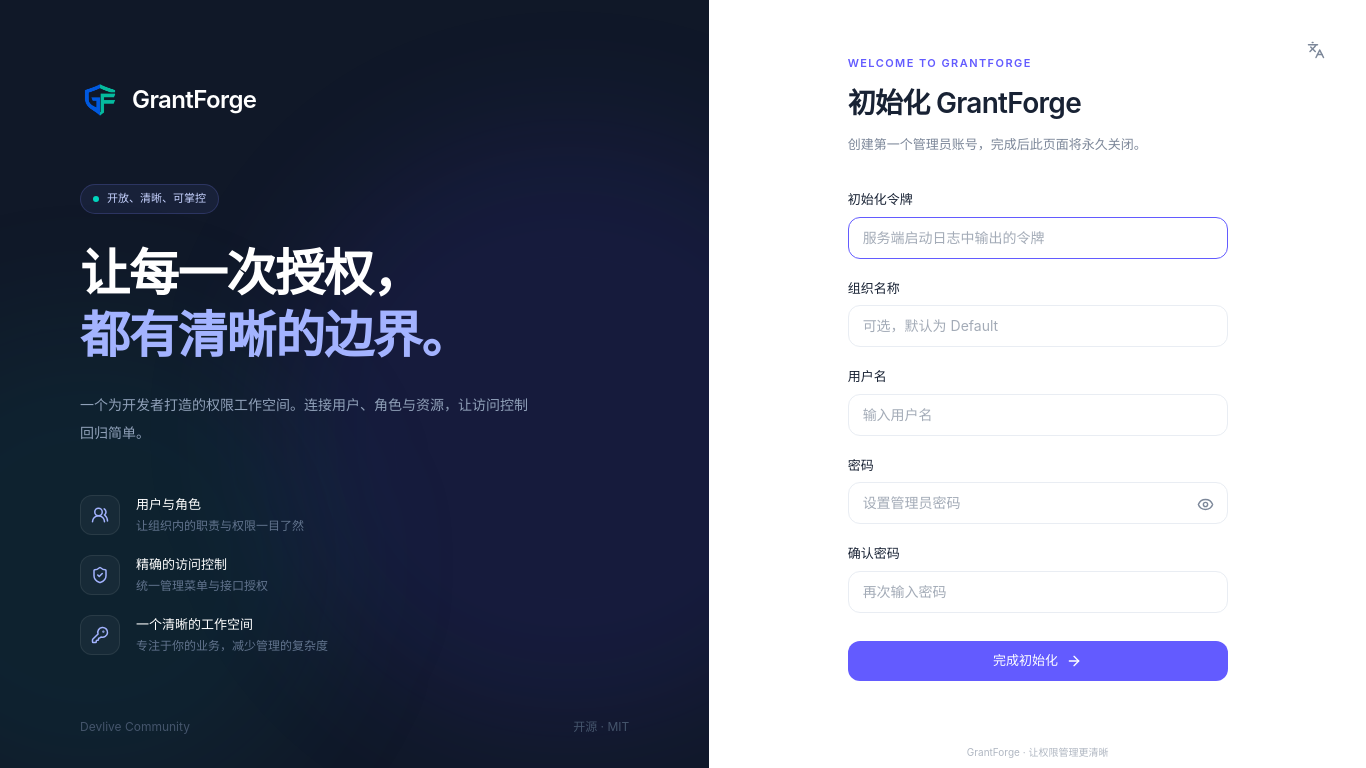
Test case: auth view › shows why the server rejected setup
Type "wrong" into the field labelled "初始化令牌" at (1038, 238), box [848,216,1228,258]
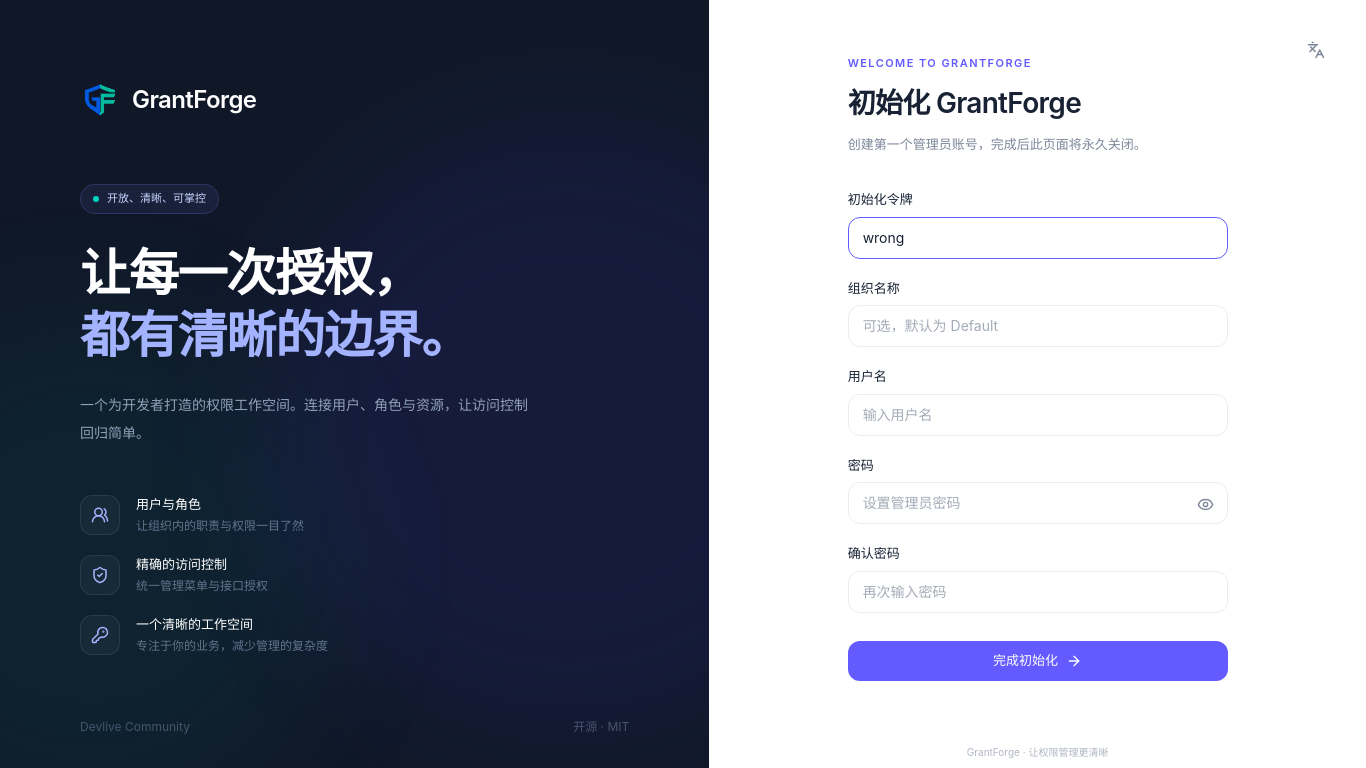
Type "Acme" into the field labelled "组织名称" at (1038, 326), box [848,305,1228,347]
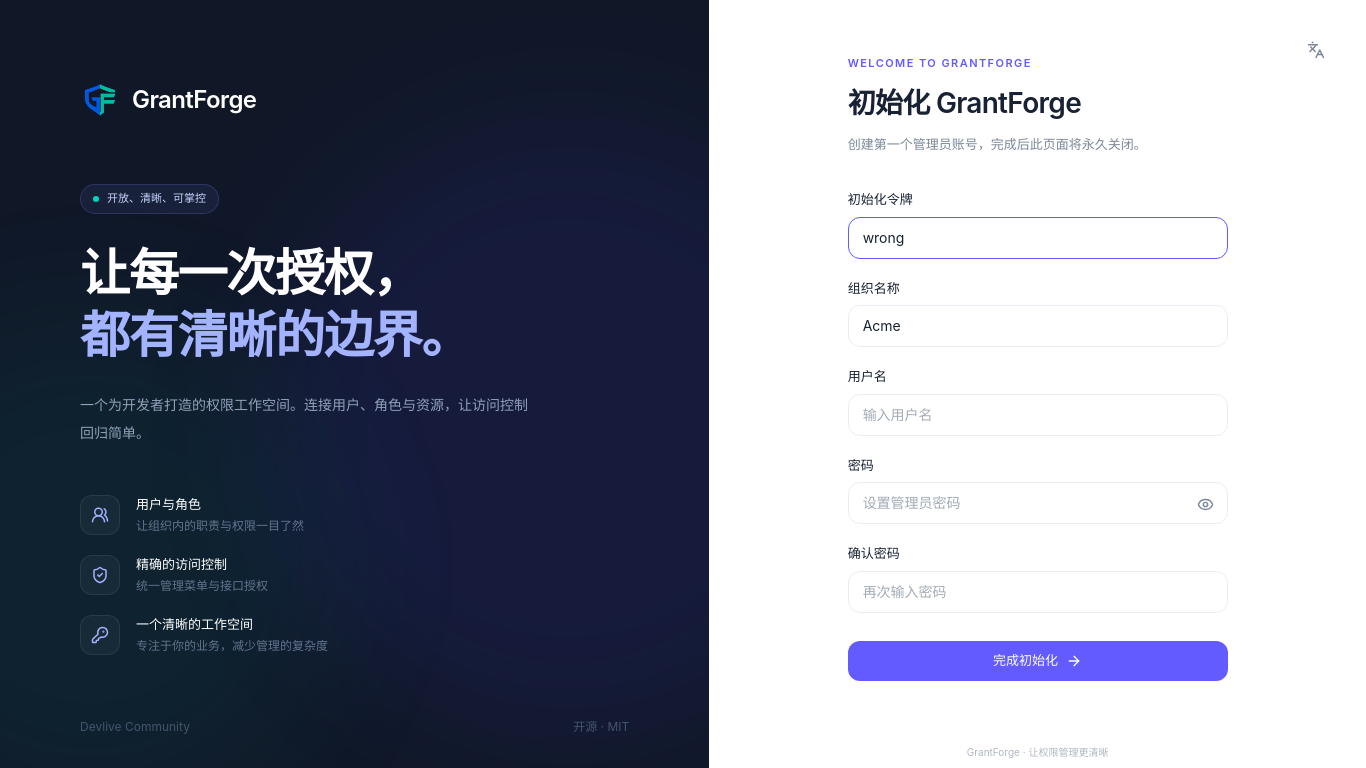
Type "admin" into the field labelled "用户名" at (1038, 415), box [848,394,1228,436]
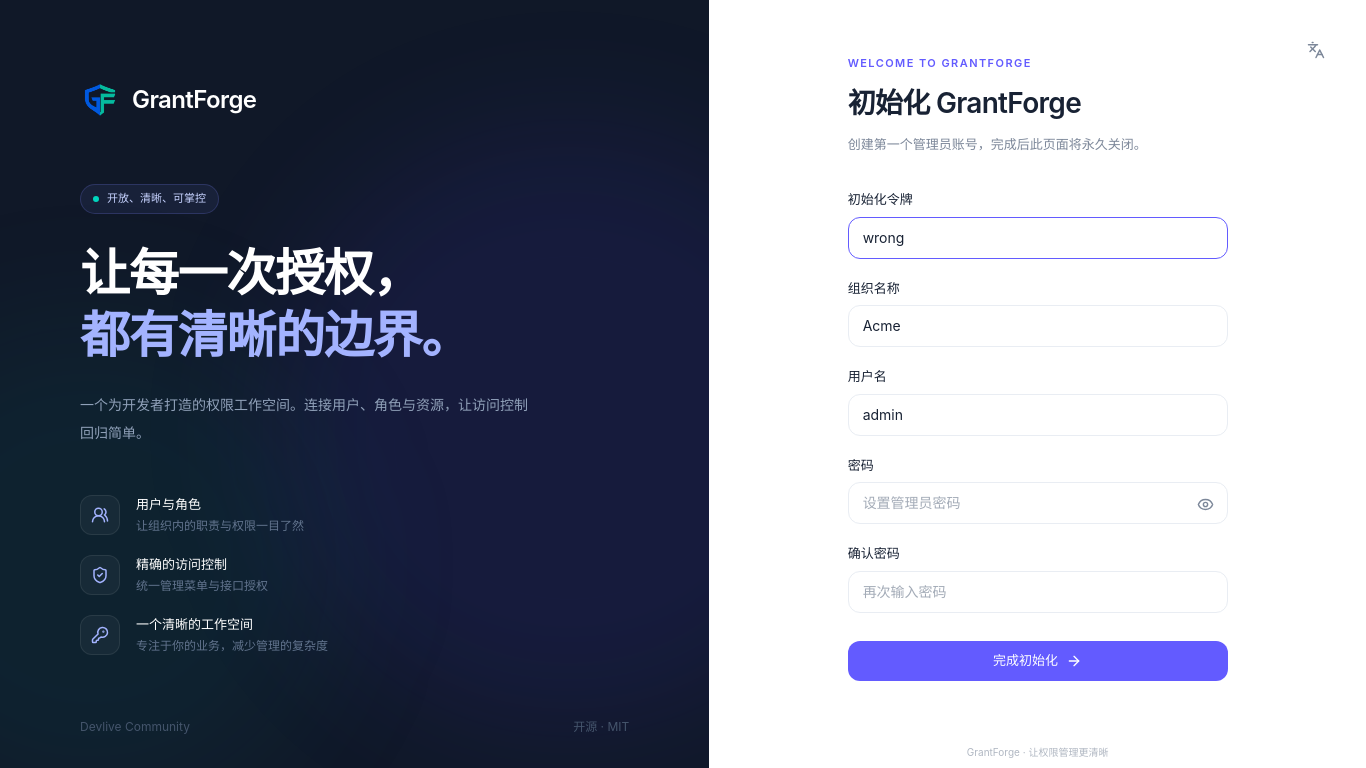
Type "a long password" into the password field labelled "密码" at (1038, 503), box [848,482,1228,524]
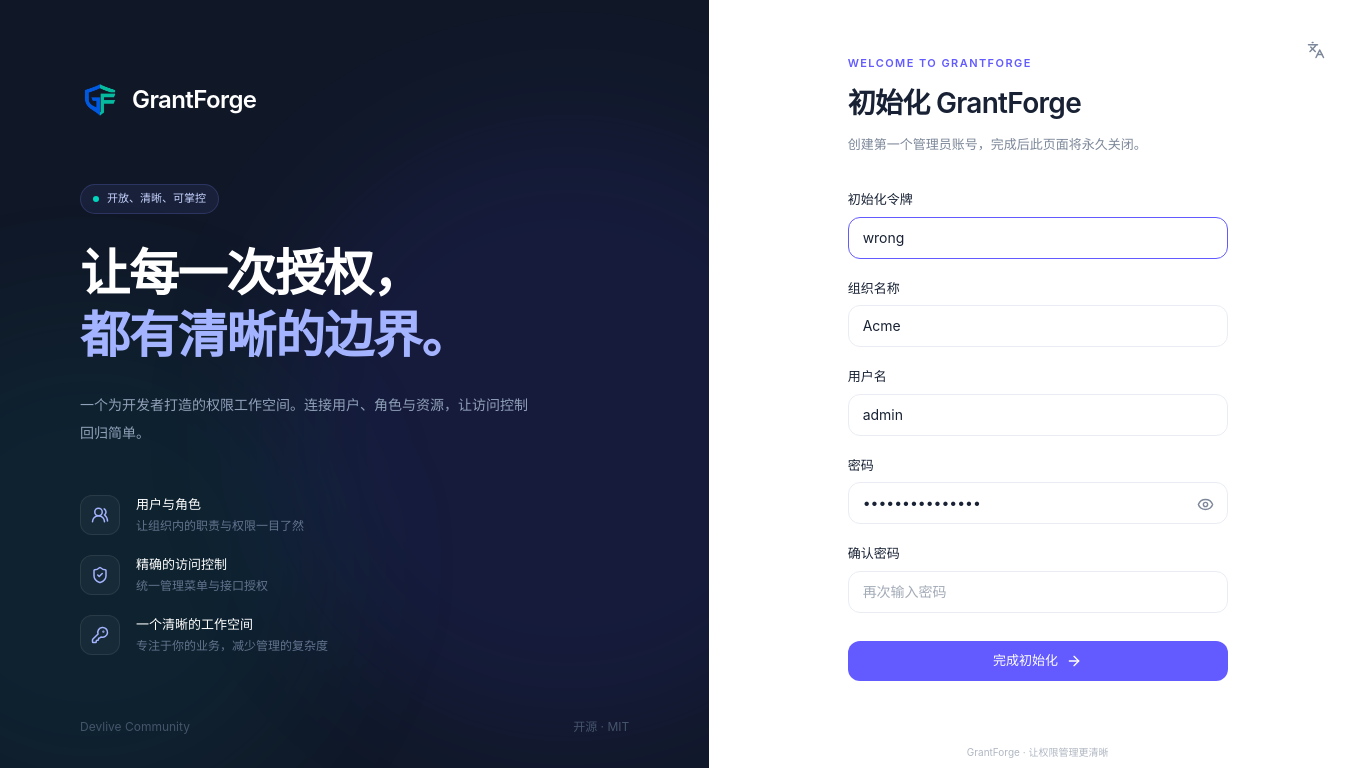
Type "a long password" into the password field labelled "确认密码" at (1038, 592), box [848,571,1228,613]
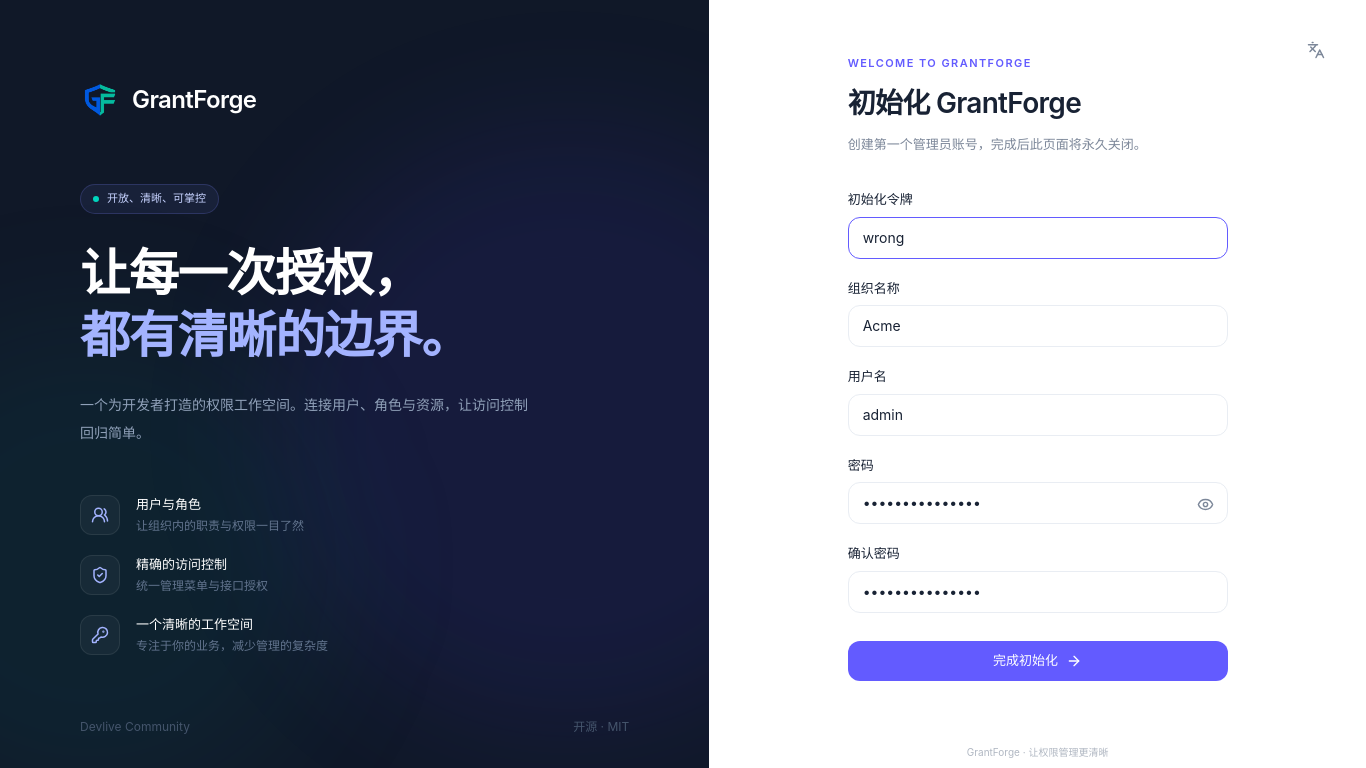
Submit the form, box [848,190,1228,681]
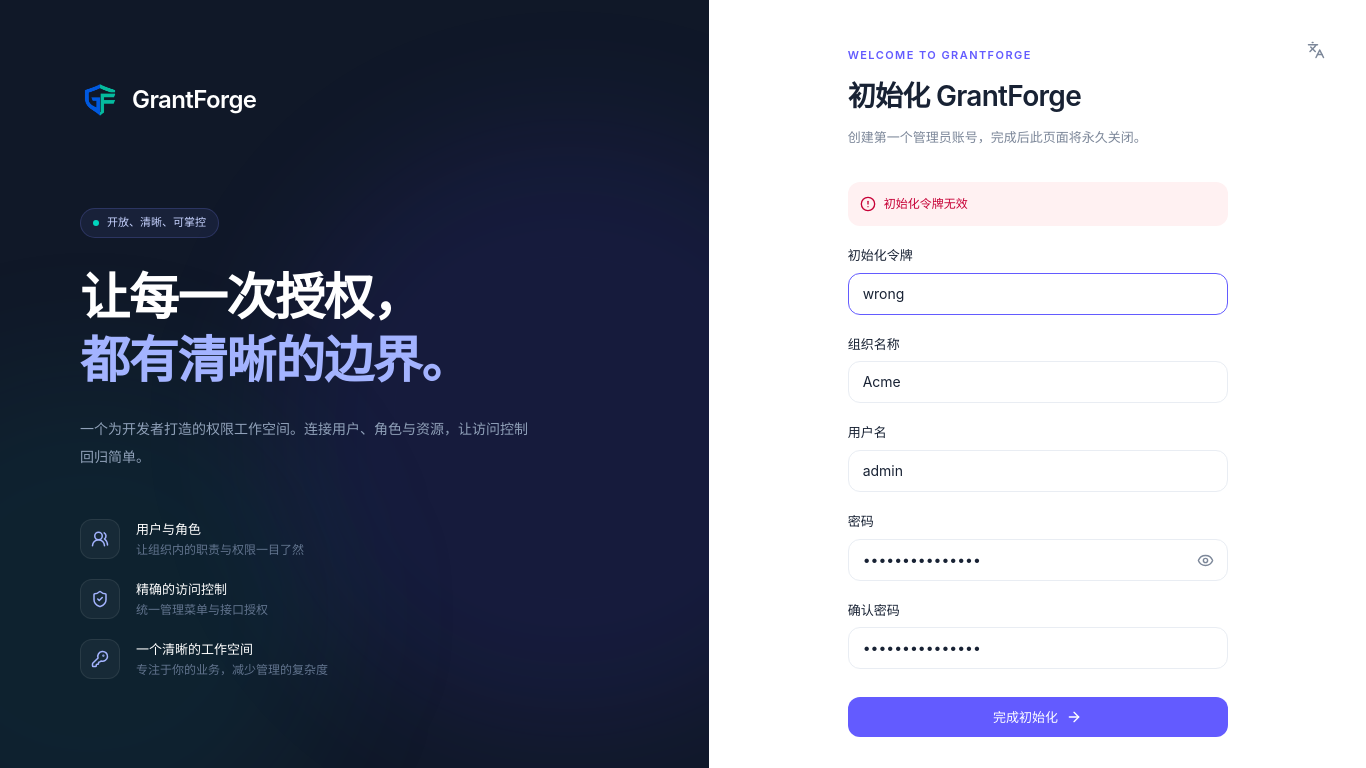
Check: the message "初始化令牌无效" is shown, box [848,182,1228,226]
